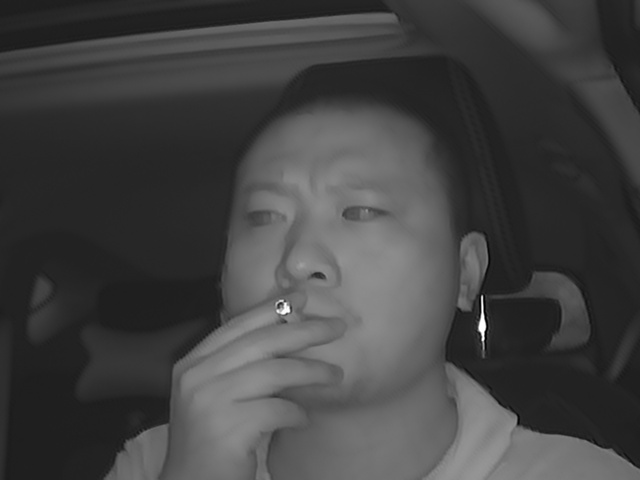hand: (187, 286, 343, 438)
